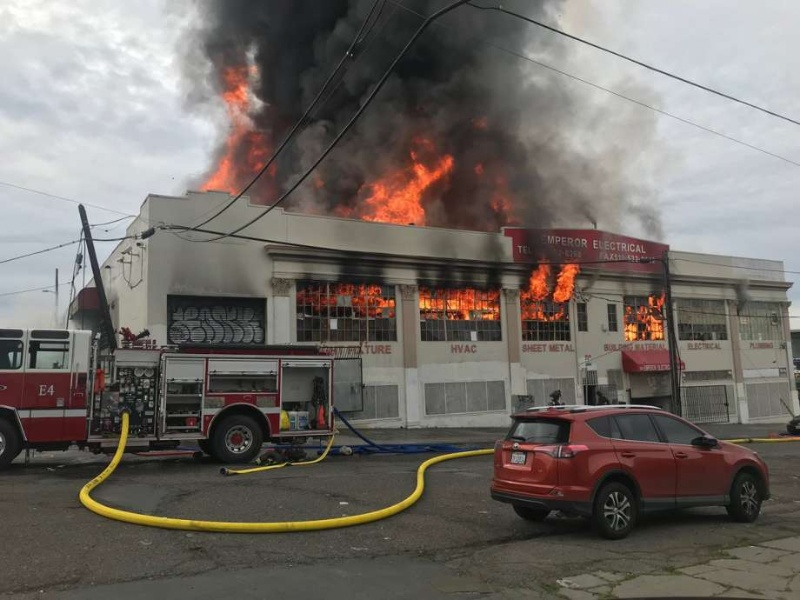smoke: (211, 1, 578, 186)
